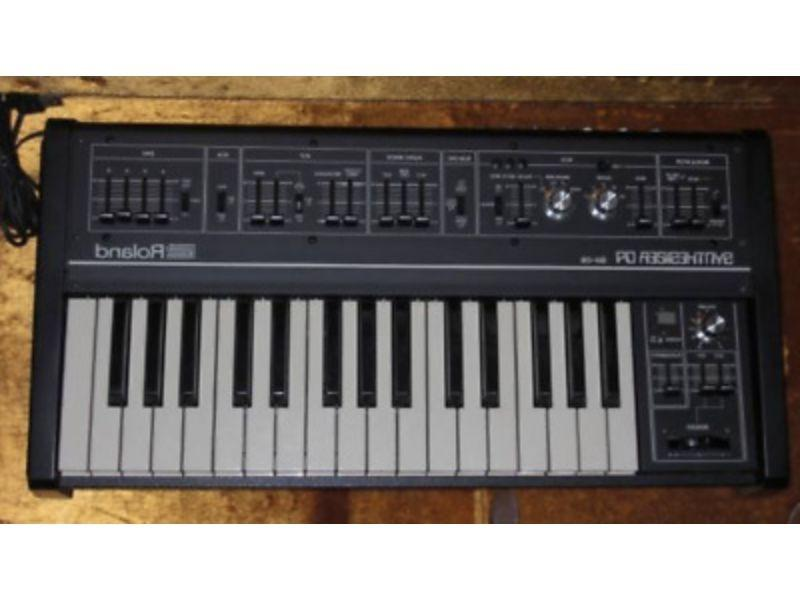synthesizer: (28, 105, 773, 506)
